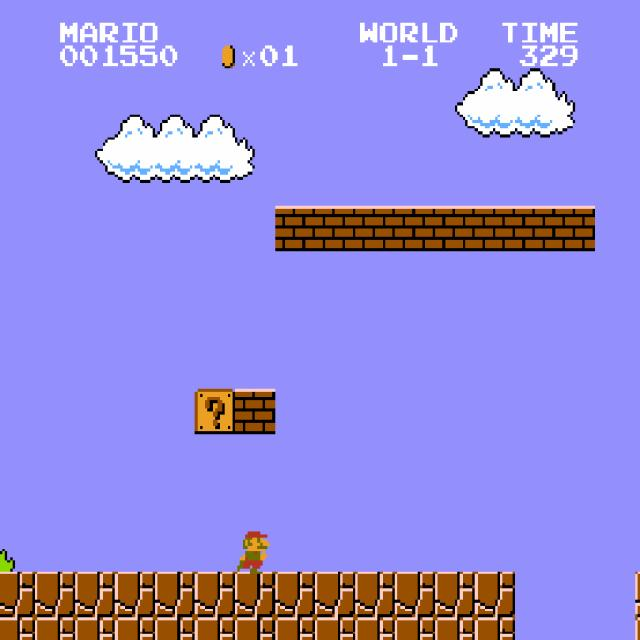brick_block: (235, 389, 275, 434), (275, 206, 315, 251), (315, 206, 355, 251), (355, 206, 395, 251), (395, 206, 435, 251), (435, 206, 475, 251), (475, 206, 515, 251), (515, 206, 555, 251), (555, 206, 595, 251)
little_mario: (230, 526, 272, 574)
mystery_block: (195, 389, 235, 434)
undestructible_block: (35, 572, 75, 617), (75, 572, 115, 617), (115, 572, 155, 617), (155, 572, 195, 617), (195, 572, 235, 617), (235, 572, 275, 617), (275, 572, 315, 617), (315, 572, 355, 617), (355, 572, 395, 617), (395, 572, 435, 617), (435, 572, 475, 617), (475, 572, 515, 617), (0, 572, 35, 617), (35, 617, 75, 640), (75, 617, 115, 640), (115, 617, 155, 640), (155, 617, 195, 640), (195, 617, 235, 640), (235, 617, 275, 640), (275, 617, 315, 640), (315, 617, 355, 640), (355, 617, 395, 640), (395, 617, 435, 640), (435, 617, 475, 640), (475, 617, 515, 640), (0, 617, 35, 640), (635, 572, 640, 617), (635, 617, 640, 640)
